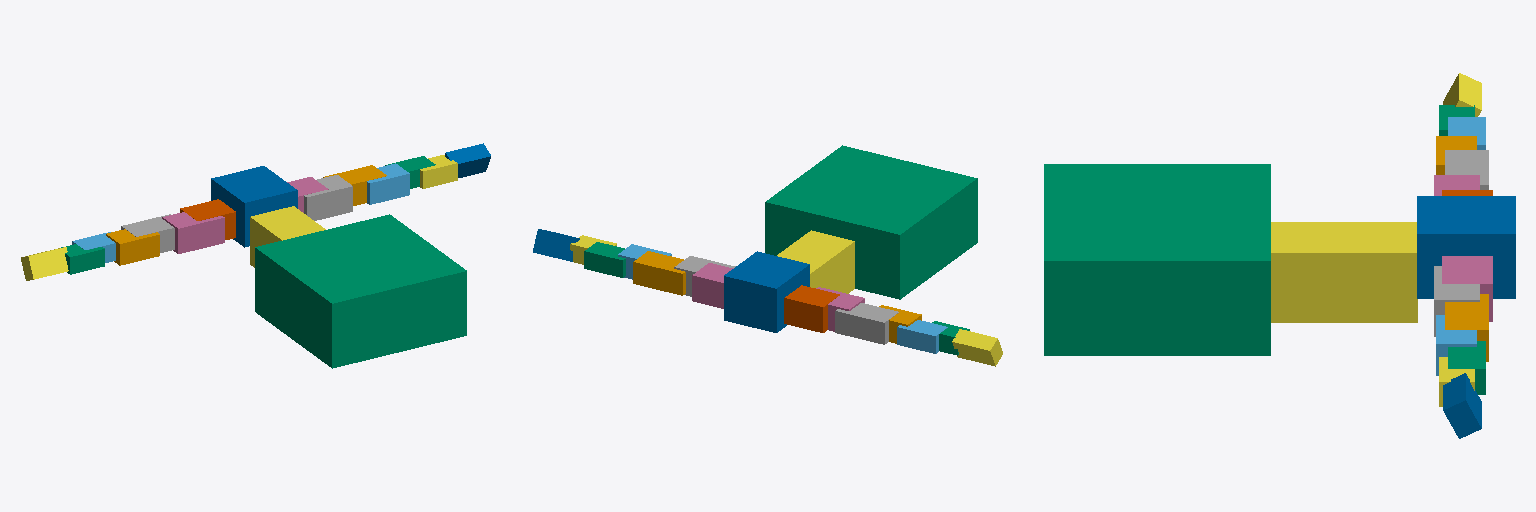
robot.urdf — Krang:
<?xml version="1.0" ?>
<!-- @file Krang.urdf -->
<!-- @author [author] -->
<!-- @date May 19, 2013 -->
<!-- @brief This file contains the .urdf definition for Krang with no dae files but only -->
<!-- bounding boxes for the dae files except the wheels (for fast loading in 05-fr). -->
<!-- TODO: Set the center of mass locations -->
<!-- TODO: Set the correct masses. Note that the dae models have the brackets divided in two and -->
<!-- connected to the middle motor for which we do not have measurements. -->
<!-- NOTE: The bounding box values are taken by finding the min and max values of the dae files. -->

<robot name="Krang">

	<!-- Links -->

	<link name = "LWheel"> 
    <inertial>
      <mass value="4.66"/>
      <inertia ixx="0.102019" ixy="2.45462e-05" ixz="0.00713022" iyy="0.0832724" iyz="-0.00131733" izz="0.086493"/>
      <origin xyz="0 0 0"/>
    </inertial>
		<visual> <geometry> <mesh filename="Base/oldwheel.dae" /> </geometry> </visual> 
		<collision> <geometry> <mesh filename="Base/oldwheel.dae" /> </geometry> </collision> 
	</link>

	<link name = "RWheel"> 
    <inertial>
      <mass value="4.66"/>
      <inertia ixx="0.102019" ixy="2.45462e-05" ixz="0.00713022" iyy="0.0832724" iyz="-0.00131733" izz="0.086493"/>
      <origin xyz="0 0 0"/>
    </inertial>
		<visual> <geometry> <mesh filename="Base/oldwheel.dae" /> </geometry> </visual> 
		<collision> <geometry> <mesh filename="Base/oldwheel.dae" /> </geometry> </collision> 
	</link>

	<link name = "Base"> 
    <inertial>
      <mass value="86.5"/>
      <inertia ixx="0.102019" ixy="2.45462e-05" ixz="0.00713022" iyy="0.0832724" iyz="-0.00131733" izz="0.086493"/>
      <origin xyz="0 0 0"/>
    </inertial>
		<visual> 
			<origin xyz="0.00225 0.2097395 0.006300"/>
      <geometry>
        <box size="0.7165 0.71048 0.32860"/>
      </geometry>
		</visual> 
		<collision> 
			<origin xyz="0.00225 0.2097395 0.006300"/>
      <geometry>
        <box size="0.7165 0.71048 0.32860"/>
      </geometry>
		</collision> 
	</link>

	<link name = "Spine"> 
    <inertial>
      <mass value="6.547"/>
      <inertia ixx="0.102019" ixy="2.45462e-05" ixz="0.00713022" iyy="0.0832724" iyz="-0.00131733" izz="0.086493"/>
      <origin xyz="0 0 0"/>
    </inertial>
		<visual> 
			<origin xyz="-0.026 0.230150 0.053887"/>
      <geometry>
        <box size="0.2340 0.59430 0.24097"/>
      </geometry>
		</visual> 
		<collision> 
			<origin xyz="-0.026 0.230150 0.053887"/>
      <geometry>
        <box size="0.2340 0.59430 0.24097"/>
      </geometry>
		</collision> 
	</link>

	<link name = "Bracket"> 
    <inertial>
      <mass value="3.11"/>
      <inertia ixx="0.102019" ixy="2.45462e-05" ixz="0.00713022" iyy="0.0832724" iyz="-0.00131733" izz="0.086493"/>
      <origin xyz="0 0 0"/>
    </inertial>
		<visual> <origin xyz="0.0012875 0.0971525 -0.0280530"/> <geometry> <box size="0.2815 0.30791 0.22611"/> </geometry> </visual> 
		<collision> <origin xyz="0.0012875 0.0971525 -0.0280530"/> <geometry> <box size="0.2815 0.30791 0.22611"/> </geometry> </collision> 
	</link>

	<link name = "L1"> 
    <inertial>
      <mass value="3.28"/>
      <inertia ixx="0.102019" ixy="2.45462e-05" ixz="0.00713022" iyy="0.0832724" iyz="-0.00131733" izz="0.086493"/>
      <origin xyz="0 0 0"/>
    </inertial>
		<visual> <origin xyz="0.015 -0.080866 0.0"/> <geometry> <box size="0.16 0.29367 0.13188"/> </geometry> </visual> 
		<collision> <origin xyz="0.015 -0.080866 0.0"/> <geometry> <box size="0.16 0.29367 0.13188"/> </geometry> </collision> 
	</link>

	<link name = "L2"> 
    <inertial>
      <mass value="3.76"/>
      <inertia ixx="0.102019" ixy="2.45462e-05" ixz="0.00713022" iyy="0.0832724" iyz="-0.00131733" izz="0.086493"/>
      <origin xyz="0 0 0"/>
    </inertial>
		<visual> <origin xyz="0.017042 -0.058309 0.0"/> <geometry> <box size="0.14591 0.24658 0.13"/> </geometry> </visual> 
		<collision> <origin xyz="0.017042 -0.058309 0.0"/> <geometry> <box size="0.14591 0.24658 0.13"/> </geometry> </collision> 
	</link>

	<link name = "L3"> 
    <inertial>
      <mass value="2.435"/>
      <inertia ixx="0.102019" ixy="2.45462e-05" ixz="0.00713022" iyy="0.0832724" iyz="-0.00131733" izz="0.086493"/>
      <origin xyz="0 0 0"/>
    </inertial>
		<visual> <origin xyz="0.014000 -0.075113 0.0"/> <geometry> <box size="0.13800 0.26217 0.11189"/> </geometry> </visual> 
		<collision> <origin xyz="0.014000 -0.075113 0.0"/> <geometry> <box size="0.13800 0.26217 0.11189"/> </geometry> </collision> 
	</link>

	<link name = "L4"> 
    <inertial>
      <mass value="2.356"/>
      <inertia ixx="0.102019" ixy="2.45462e-05" ixz="0.00713022" iyy="0.0832724" iyz="-0.00131733" izz="0.086493"/>
      <origin xyz="0 0 0"/>
    </inertial>
		<visual> <origin xyz="0.018200 -0.052050 0.0"/> <geometry> <box size="0.12960 0.2141 0.11"/> </geometry> </visual> 
		<collision> <origin xyz="0.018200 -0.052050 0.0"/> <geometry> <box size="0.12960 0.2141 0.11"/> </geometry> </collision> 
	</link>

	<link name = "L5"> 
    <inertial>
      <mass value="1.517"/>
      <inertia ixx="0.102019" ixy="2.45462e-05" ixz="0.00713022" iyy="0.0832724" iyz="-0.00131733" izz="0.086493"/>
      <origin xyz="0 0 0"/>
    </inertial>
		<visual> <origin xyz="0.0145115 -0.0571105 0.0000425"/> <geometry> <box size="0.117977 0.204179 0.089915"/> </geometry> </visual> 
		<collision> <origin xyz="0.0145115 -0.0571105 0.0000425"/> <geometry> <box size="0.117977 0.204179 0.089915"/> </geometry> </collision> 
	</link>

	<link name = "L6"> 
    <inertial>
      <mass value="1.428"/>
      <inertia ixx="0.102019" ixy="2.45462e-05" ixz="0.00713022" iyy="0.0832724" iyz="-0.00131733" izz="0.086493"/>
      <origin xyz="0 0 0"/>
    </inertial>
		<visual> <origin xyz="0.0175015 -0.0481615 0.0"/> <geometry> <box size="0.111977 0.185277 0.089"/> </geometry> </visual> 
		<collision> <origin xyz="0.0175015 -0.0481615 0.0"/> <geometry> <box size="0.111977 0.185277 0.089"/> </geometry> </collision> 
	</link>

	<link name = "lGripper"> 
    <inertial>
      <mass value="1.206"/>
      <inertia ixx="0.102019" ixy="2.45462e-05" ixz="0.00713022" iyy="0.0832724" iyz="-0.00131733" izz="0.086493"/>
      <origin xyz="0 0 0"/>
    </inertial>
		<visual> <origin xyz="0.0 -0.0 0.02615" rpy="0.0 0.0 0.4712"/> <geometry> <box size="0.08 0.112 0.2025"/> </geometry> </visual> 
		<collision> <origin xyz="0.0 -0.0 0.02615" rpy="0.0 0.0 0.4712"/> <geometry> <box size="0.08 0.112 0.2025"/> </geometry> </collision> 
	</link>

	<link name = "lgPlate1">
		<visual> <geometry> <mesh filename="Schunk/gripperPlate.dae" /> </geometry> </visual>
	</link> 	

	<link name = "lgPlate2">
		<visual> <geometry> <mesh filename="Schunk/gripperPlate.dae" /> </geometry> </visual>
	</link> 	

	<link name = "R1"> 
    <inertial>
      <mass value="3.28"/>
      <inertia ixx="0.102019" ixy="2.45462e-05" ixz="0.00713022" iyy="0.0832724" iyz="-0.00131733" izz="0.086493"/>
      <origin xyz="0 0 0"/>
    </inertial>
		<visual> <origin xyz="0.015 -0.080866 0.0"/> <geometry> <box size="0.16 0.29367 0.13188"/> </geometry> </visual> 
		<collision> <origin xyz="0.015 -0.080866 0.0"/> <geometry> <box size="0.16 0.29367 0.13188"/> </geometry> </collision> 
	</link>

	<link name = "R2"> 
    <inertial>
      <mass value="3.76"/>
      <inertia ixx="0.102019" ixy="2.45462e-05" ixz="0.00713022" iyy="0.0832724" iyz="-0.00131733" izz="0.086493"/>
      <origin xyz="0 0 0"/>
    </inertial>
		<visual> <origin xyz="0.017042 -0.058309 0.0"/> <geometry> <box size="0.14591 0.24658 0.13"/> </geometry> </visual> 
		<collision> <origin xyz="0.017042 -0.058309 0.0"/> <geometry> <box size="0.14591 0.24658 0.13"/> </geometry> </collision> 
	</link>

	<link name = "R3"> 
    <inertial>
      <mass value="2.435"/>
      <inertia ixx="0.102019" ixy="2.45462e-05" ixz="0.00713022" iyy="0.0832724" iyz="-0.00131733" izz="0.086493"/>
      <origin xyz="0 0 0"/>
    </inertial>
		<visual> <origin xyz="0.014000 -0.075113 0.0"/> <geometry> <box size="0.13800 0.26217 0.11189"/> </geometry> </visual> 
		<collision> <origin xyz="0.014000 -0.075113 0.0"/> <geometry> <box size="0.13800 0.26217 0.11189"/> </geometry> </collision> 
	</link>

	<link name = "R4"> 
    <inertial>
      <mass value="2.356"/>
      <inertia ixx="0.102019" ixy="2.45462e-05" ixz="0.00713022" iyy="0.0832724" iyz="-0.00131733" izz="0.086493"/>
      <origin xyz="0 0 0"/>
    </inertial>
		<visual> <origin xyz="0.018200 -0.052050 0.0"/> <geometry> <box size="0.12960 0.2141 0.11"/> </geometry> </visual> 
		<collision> <origin xyz="0.018200 -0.052050 0.0"/> <geometry> <box size="0.12960 0.2141 0.11"/> </geometry> </collision> 
	</link>

	<link name = "R5"> 
    <inertial>
      <mass value="1.517"/>
      <inertia ixx="0.102019" ixy="2.45462e-05" ixz="0.00713022" iyy="0.0832724" iyz="-0.00131733" izz="0.086493"/>
      <origin xyz="0 0 0"/>
    </inertial>
		<visual> <origin xyz="0.0145115 -0.0571105 0.0000425"/> <geometry> <box size="0.117977 0.204179 0.089915"/> </geometry> </visual> 
		<collision> <origin xyz="0.0145115 -0.0571105 0.0000425"/> <geometry> <box size="0.117977 0.204179 0.089915"/> </geometry> </collision> 
	</link>

	<link name = "R6"> 
    <inertial>
      <mass value="1.428"/>
      <inertia ixx="0.102019" ixy="2.45462e-05" ixz="0.00713022" iyy="0.0832724" iyz="-0.00131733" izz="0.086493"/>
      <origin xyz="0 0 0"/>
    </inertial>
		<visual> <origin xyz="0.0175015 -0.0481615 0.0"/> <geometry> <box size="0.111977 0.185277 0.089"/> </geometry> </visual> 
		<collision> <origin xyz="0.0175015 -0.0481615 0.0"/> <geometry> <box size="0.111977 0.185277 0.089"/> </geometry> </collision> 
	</link>

	<link name = "rGripper"> 
    <inertial>
      <mass value="1.206"/>
      <inertia ixx="0.102019" ixy="2.45462e-05" ixz="0.00713022" iyy="0.0832724" iyz="-0.00131733" izz="0.086493"/>
      <origin xyz="0 0 0"/>
    </inertial>
		<visual> <origin xyz="0.0 -0.0 0.02615" rpy="0.0 0.0 0.4712"/> <geometry> <box size="0.08 0.112 0.2025"/> </geometry> </visual> 
		<collision> <origin xyz="0.0 -0.0 0.02615" rpy="0.0 0.0 0.4712"/> <geometry> <box size="0.08 0.112 0.2025"/> </geometry> </collision> 
	</link>

	<link name = "rgPlate1">
		<visual> <geometry> <mesh filename="Schunk/gripperPlate.dae" /> </geometry> </visual>
	</link> 	

	<link name = "rgPlate2">
		<visual> <geometry> <mesh filename="Schunk/gripperPlate.dae" /> </geometry> </visual>
	</link> 	

	<!-- ======================================================================================================== -->
	<!-- ============================================ Joints ==================================================== -->
	<!-- ======================================================================================================== -->

	<joint name="JLWheel" type="revolute"> <parent link="Base" /> <child link="LWheel" />
		<origin xyz = "-0.354 0.0 0" rpy="0 0 0" />
		<axis xyz="1 0 0" /> <limit effort="1000" lower="-3.1416" upper="3.1416" velocity="0.1" />
	</joint>

	<joint name="JRWheel" type="revolute"> <parent link="Base" /> <child link="RWheel" />
		<origin xyz = "0.361 0.0 0" rpy="0 0 0" />
		<axis xyz="1 0 0" /> <limit effort="1000" lower="-3.1416" upper="3.1416" velocity="0.1" />
	</joint>

	<joint name="JWaist" type="revolute"> <parent link="Base" /> <child link="Spine" />
		<origin xyz = "0.026 0.499 -0.091" rpy="0 0 0" />
		<axis xyz="-1 0 0" /> <limit effort="1000" lower="0" upper="2.3" velocity="0.1" />
	</joint>

	<joint name="JTorso" type="revolute"> <parent link="Spine" /> <child link="Bracket" />
		<origin xyz = "-0.0285 0.584 0.1088" rpy="0 3.1416 0" />
		<axis xyz="0 -1 0" /> <limit effort="1000" lower="-0.8" upper="0.8" velocity="0.1" />
	</joint>

	<joint name="LJ1" type="revolute"> <parent link="Bracket" /> <child link="L1" />
		<origin xyz = "0.2823 0.0845 0" rpy="0 3.1416 -1.5708" />
		<axis xyz="0 -1 0" /> <limit effort="1000" lower="-3.1416" upper="3.1416" velocity="0.1" />
	</joint>

	<joint name="LJ2" type="revolute"> <parent link="L1" /> <child link="L2" />
		<origin xyz="0 0.0 0" rpy="3.14 3.14 0" />
		<axis xyz="-1 0 0" /> <limit effort="1000" lower="-2.094" upper="2.094" velocity="0.1" />
	</joint>

	<joint name="LJ3" type="revolute"> <parent link="L2" /> <child link="L3" />
		<origin xyz="0 -0.328 0" rpy="-3.1416 -3.1416 0" />
		<axis xyz="0 -1 0" /> <limit effort="1000" lower="-3.1416" upper="3.1416" velocity="0.1" />
	</joint>

	<joint name="LJ4" type="revolute"> <parent link="L3" /> <child link="L4" />
		<origin xyz="0 0 0" rpy="3.1416 3.1416 0" />
		<axis xyz="-1 0 0" /> <limit effort="1000" lower="-2.094" upper="2.094" velocity="0.1" />
	</joint>

	<joint name="LJ5" type="revolute"> <parent link="L4" /> <child link="L5" />
		<origin xyz="0 -0.2765 0" rpy="3.1416 3.1416 0" />
		<axis xyz="0 -1 0" /> <limit effort="1000" lower="-3.1416" upper="3.1416" velocity="0.1" />
	</joint>

	<joint name="LJ6" type="revolute"> <parent link="L5" /> <child link="L6" />
		<origin xyz="0 0 0" rpy="3.1416 3.1416 0" />
		<axis xyz="-1 0 0" /> <limit effort="1000" lower="-2.094" upper="2.094" velocity="0.1" />
	</joint>

	<!-- For some reason, I had to negate the axis to make sure the motor turns like the others -->
	<joint name="LJFT" type="revolute"> <parent link="L6" /> <child link="lGripper" />
		<origin xyz="0 -0.200 0" rpy="1.5708 3.1416 0" />
		<axis xyz="0 0 -1" /> <limit effort="1000" lower="-3.1416" upper="3.1416" velocity="0.1" />
	</joint>

	<joint name="LMotorPlate1" type="fixed"> <parent link="lGripper" /> <child link="lgPlate1" />
		<origin xyz="0.02043 -0.04010 0.127" rpy="3.1416 0 2.04" />
		<axis xyz="1 0 0" /> <limit effort="1000" lower="0.0" upper="0.0135" velocity="0.1" />
	</joint>

	<joint name="LMotorPlate2" type="fixed"> <parent link="lGripper" /> <child link="lgPlate2" />
		<origin xyz="-0.02043 0.04010 0.127" rpy="3.1416 0 -1.10" />
		<axis xyz="1 0 0" /> <limit effort="1000" lower="0.0" upper="0.0135" velocity="0.1" />
	</joint>

	<!-- Right arm -->

	<joint name="RJ1" type="revolute"> <parent link="Bracket" /> <child link="R1" />
		<origin xyz = "-0.2823 0.0845 0" rpy="0 0 1.5708" />
		<axis xyz="0 -1 0" /> <limit effort="1000" lower="-3.1416" upper="3.1416" velocity="0.1" />
	</joint>

	<joint name="RJ2" type="revolute"> <parent link="R1" /> <child link="R2" />
		<origin xyz="0 0.0 0" rpy="3.14 3.14 0" />
		<axis xyz="-1 0 0" /> <limit effort="1000" lower="-2.094" upper="2.094" velocity="0.1" />
	</joint>

	<joint name="RJ3" type="revolute"> <parent link="R2" /> <child link="R3" />
		<origin xyz="0 -0.328 0" rpy="-3.1416 -3.1416 0" />
		<axis xyz="0 -1 0" /> <limit effort="1000" lower="-3.1416" upper="3.1416" velocity="0.1" />
	</joint>

	<joint name="RJ4" type="revolute"> <parent link="R3" /> <child link="R4" />
		<origin xyz="0 0 0" rpy="3.1416 3.1416 0" />
		<axis xyz="-1 0 0" /> <limit effort="1000" lower="-2.094" upper="2.094" velocity="0.1" />
	</joint>

	<joint name="RJ5" type="revolute"> <parent link="R4" /> <child link="R5" />
		<origin xyz="0 -0.2765 0" rpy="3.1416 3.1416 0" />
		<axis xyz="0 -1 0" /> <limit effort="1000" lower="-3.1416" upper="3.1416" velocity="0.1" />
	</joint>

	<joint name="RJ6" type="revolute"> <parent link="R5" /> <child link="R6" />
		<origin xyz="0 0 0" rpy="3.1416 3.1416 0" />
		<axis xyz="-1 0 0" /> <limit effort="1000" lower="-2.094" upper="2.094" velocity="0.1" />
	</joint>

	<joint name="RJFT" type="revolute"> <parent link="R6" /> <child link="rGripper" />
		<origin xyz="0 -0.200 0" rpy="1.5708 3.1416 0" />
		<axis xyz="0 0 -1" /> <limit effort="1000" lower="-3.1416" upper="3.1416" velocity="0.1" />
	</joint>

	<joint name="RMotorPlate1" type="fixed"> <parent link="rGripper" /> <child link="rgPlate1" />
		<origin xyz="-0.02043 0.04010 0.127" rpy="3.1416 0 -1.10" />
		<axis xyz="1 0 0" /> <limit effort="1000" lower="0.0" upper="0.0135" velocity="0.1" />
	</joint>

	<joint name="RMotorPlate2" type="fixed"> <parent link="rGripper" /> <child link="rgPlate2" />
		<origin xyz="0.050 0.1 0.0" rpy="1.57 3.1416 0" />
		<axis xyz="1 0 0" /> <limit effort="1000" lower="0.0" upper="0.0135" velocity="0.1" />
	</joint>

</robot>

--- Render facts (derived) ---
3 views of the same robot in one strip: view 1: azimuth 30°, elevation 25°; view 2: azimuth 150°, elevation 25°; view 3: azimuth 270°, elevation 25° (orthographic).
Robot: Krang — 23 links, 22 joints (18 revolute, 4 fixed); root link Base; default pose: all joints at 0.
Visible links, largest first — view 1: Base, Bracket, Spine, L2, R2, L4, R4, lGripper, rGripper, L1, L3, R6 (+5 smaller); view 2: Base, Bracket, Spine, L1, L3, R3, lGripper, R1, L5, R5, rGripper, L2 (+2 smaller); view 3: Base, Spine, Bracket, rGripper, R1, R3, L3, R5, R2, lGripper, R4, L5 (+4 smaller).
Boxes of the visible links, bbox=[...] form: Base: bbox=[255, 214, 466, 368]; Bracket: bbox=[211, 166, 297, 247]; Spine: bbox=[250, 206, 325, 267]; L2: bbox=[162, 212, 224, 253]; R2: bbox=[304, 175, 352, 220]; L4: bbox=[106, 229, 159, 265]; R4: bbox=[367, 163, 409, 204]; lGripper: bbox=[21, 247, 68, 280]; rGripper: bbox=[445, 143, 490, 177]; L1: bbox=[180, 199, 235, 239]; L3: bbox=[121, 214, 174, 252]; R6: bbox=[420, 155, 457, 188]; Base: bbox=[765, 145, 977, 299]; Bracket: bbox=[724, 251, 809, 332]; Spine: bbox=[777, 230, 854, 293]; L1: bbox=[784, 285, 839, 332]; L3: bbox=[835, 303, 898, 344]; R3: bbox=[633, 251, 685, 295]; lGripper: bbox=[952, 329, 1002, 366]; R1: bbox=[692, 263, 733, 308]; L5: bbox=[897, 320, 947, 353]; R5: bbox=[584, 242, 625, 277]; rGripper: bbox=[533, 229, 579, 261]; L2: bbox=[816, 287, 864, 331]; Base: bbox=[1044, 164, 1270, 355]; Spine: bbox=[1271, 222, 1417, 322]; Bracket: bbox=[1417, 196, 1515, 298]; rGripper: bbox=[1443, 373, 1481, 438]; R1: bbox=[1442, 256, 1492, 321]; R3: bbox=[1445, 294, 1488, 361]; L3: bbox=[1445, 150, 1488, 189]; R5: bbox=[1448, 341, 1485, 394]; R2: bbox=[1434, 266, 1479, 336]; lGripper: bbox=[1443, 73, 1481, 116]; R4: bbox=[1436, 315, 1476, 375]; L5: bbox=[1448, 117, 1485, 149].
Bounding box of the posed robot: 2.43 × 1.48 × 0.3286 m (x, y, z).
0 mesh visuals loaded from 2 distinct referenced files (none loaded); not drawn: 6 (reference not matched to a file when rendering).